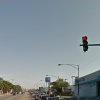Traffic light: (73, 32, 90, 57)
